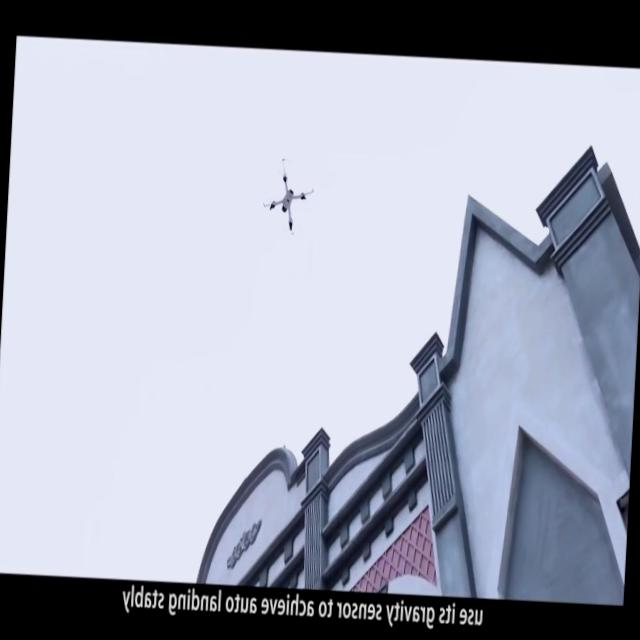drone: (261, 156, 318, 238)
